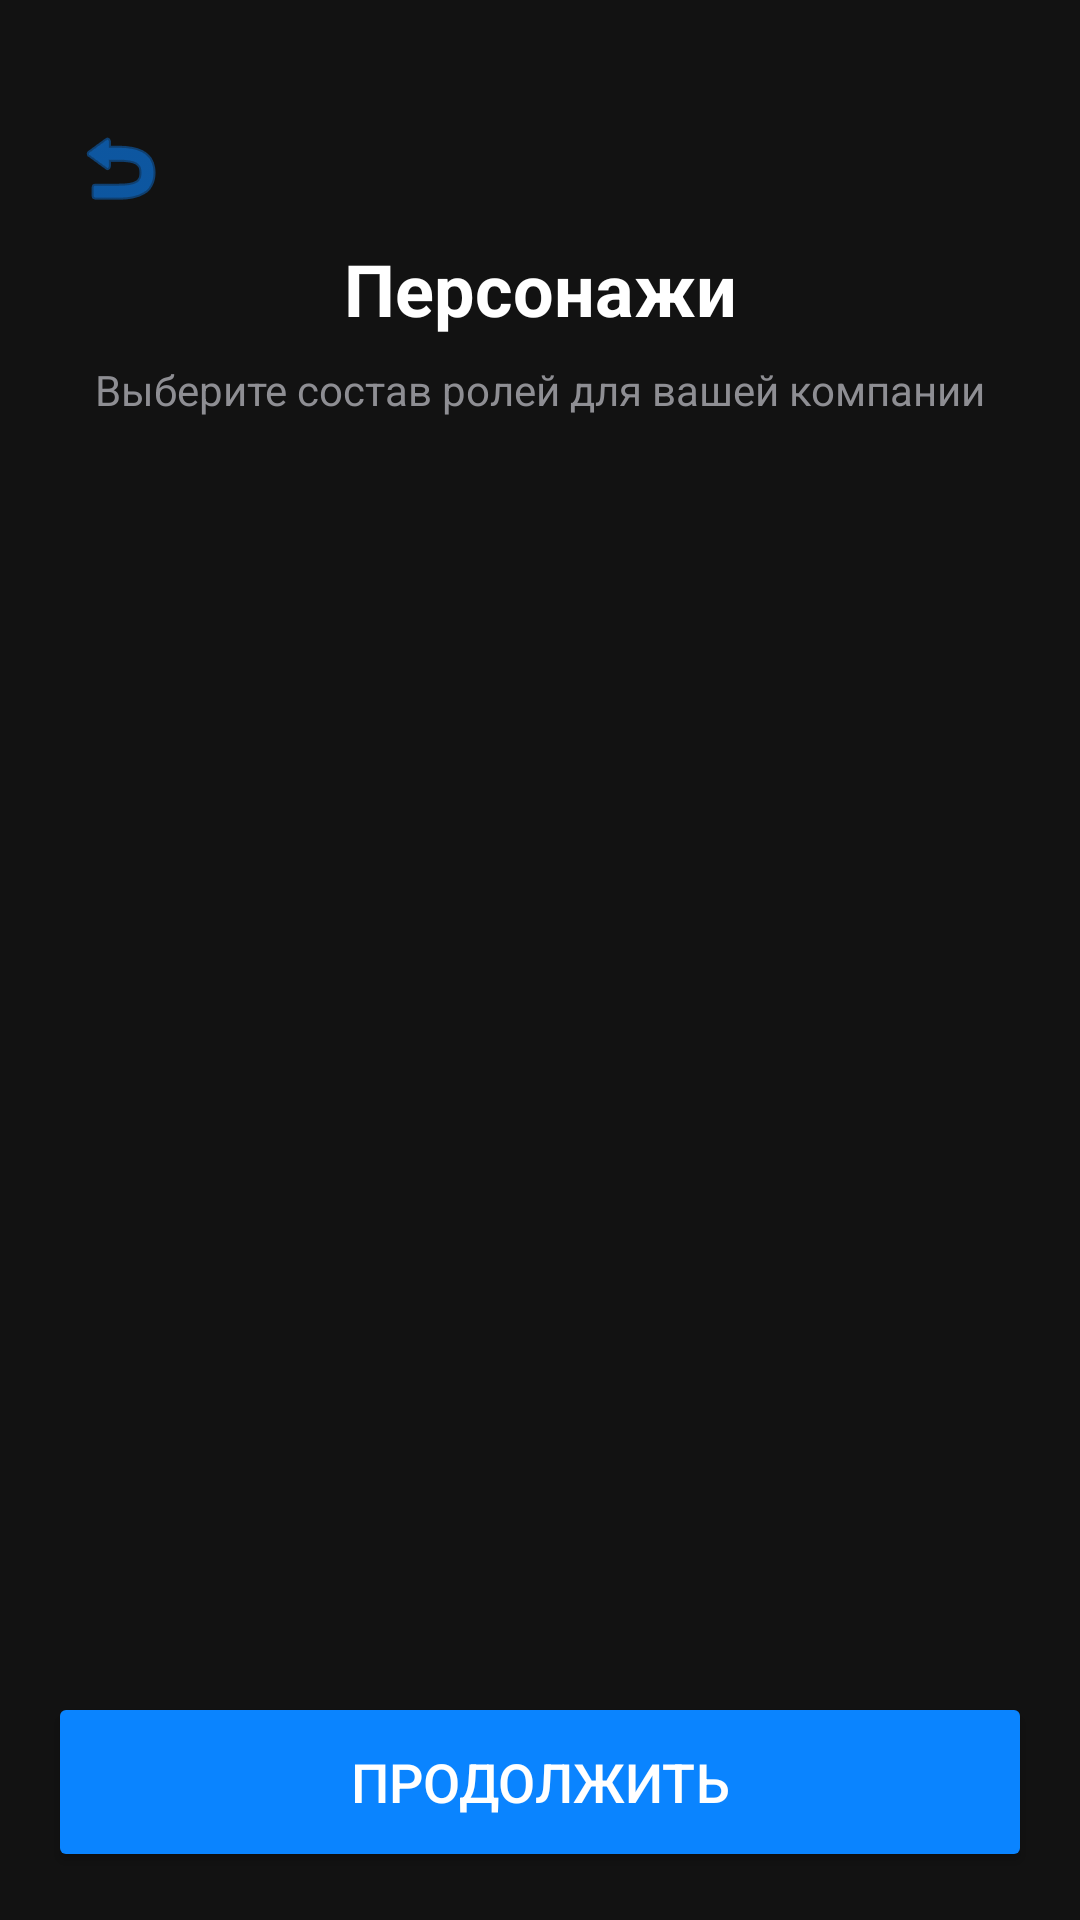

Screen size 1080 x 1920. Icon name, then its box in pixels as Rect(x1, y1, x2, y2):
revert: Rect(87, 137, 156, 200)
